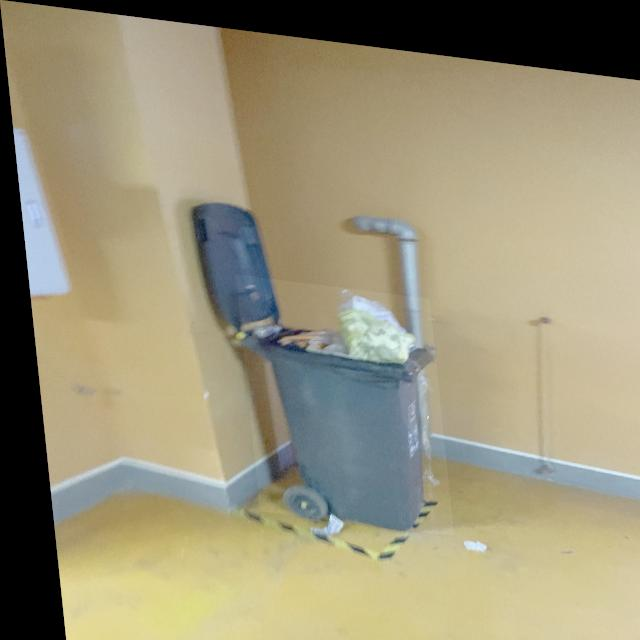overflow: (230, 269, 444, 525)
